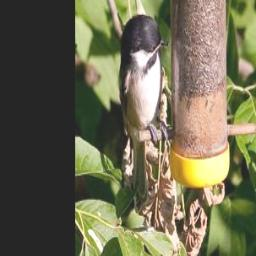Swallow: (117, 9, 172, 151)
